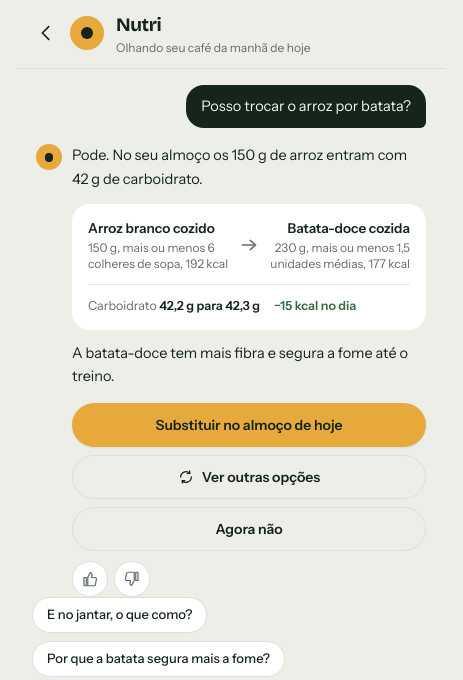
Test: Chat do Nutri (S14) › aplicar a troca: ações somem, confirmação entra e o toast oferece "Desfazer" (RF21, CA05)
Click the button "Substituir no almoço de hoje".
click(249, 425)  # box [72, 403, 426, 447]
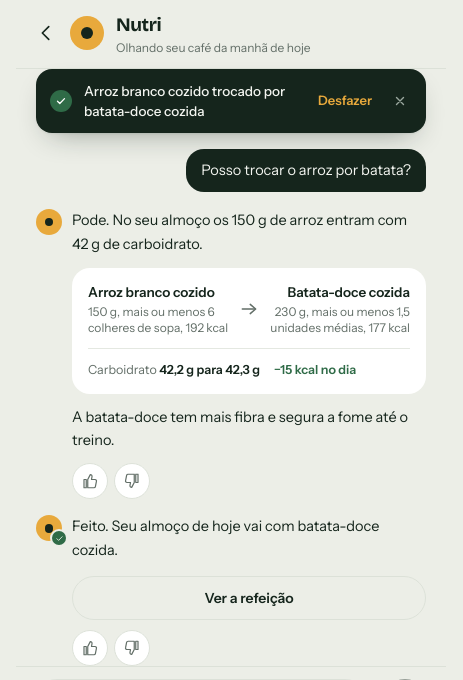
Expected: the text "Feito. Seu almoço de hoje vai com batata-doce cozida." is shown, [72, 515, 426, 562]
Expected: the button "Substituir no almoço de hoje" is gone
Expected: the text "Arroz branco cozido trocado por batata-doce cozida" is shown, [84, 80, 300, 121]
